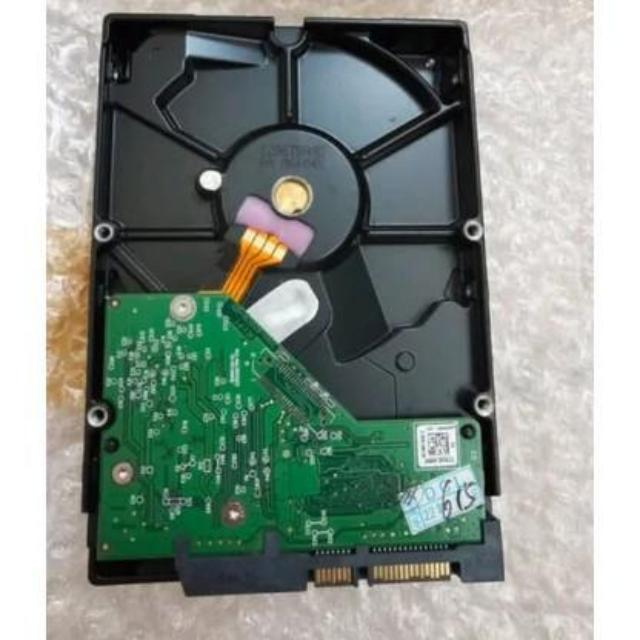DISK: (90, 6, 516, 589)
